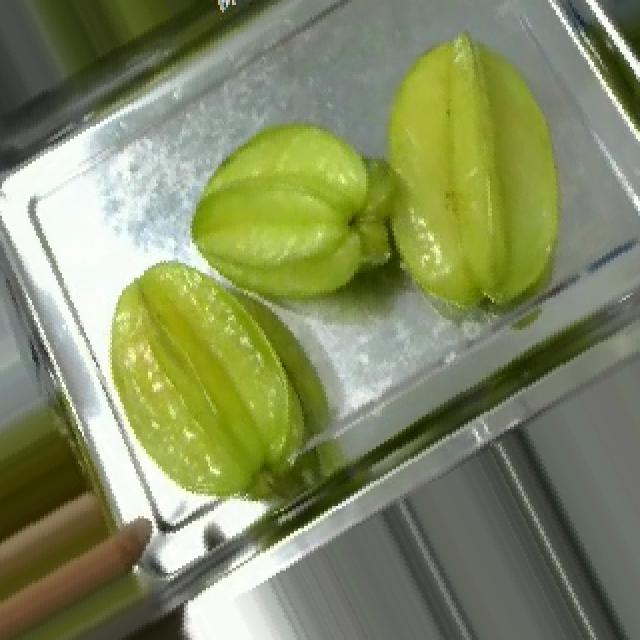fruit: (316, 0, 638, 365), (62, 221, 368, 538), (144, 72, 418, 362), (0, 0, 274, 89)
